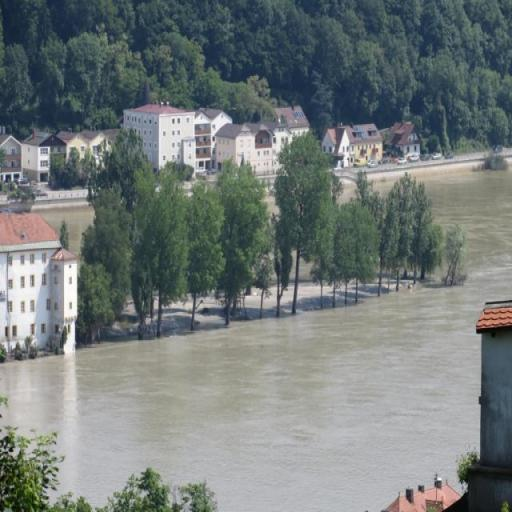flood: (0, 170, 512, 512), (34, 206, 94, 256), (374, 180, 396, 196), (339, 182, 356, 202)
house: (0, 215, 80, 344), (477, 300, 512, 462), (126, 101, 196, 159), (330, 124, 382, 162), (216, 122, 254, 161), (388, 126, 422, 157), (253, 121, 274, 169), (23, 140, 51, 175), (275, 108, 308, 136), (200, 108, 230, 128), (58, 131, 86, 152), (0, 134, 22, 153), (82, 131, 109, 146)
